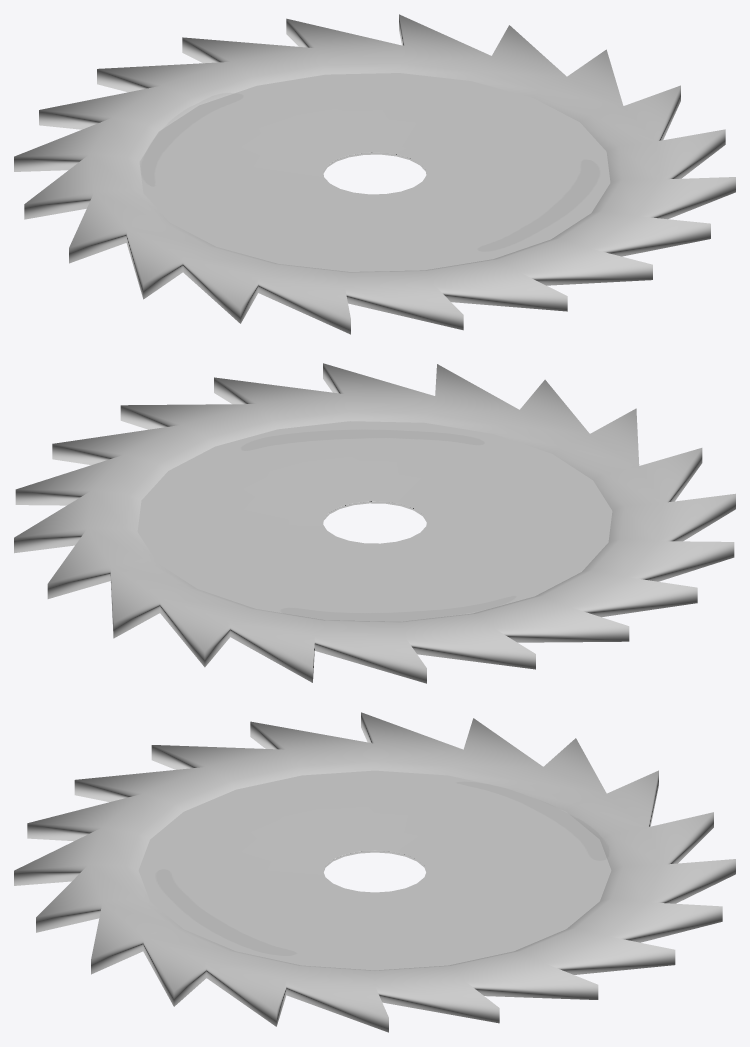
The model's file is Buzzsaw.fbx.
3 renders of one model, top to bottom at view 1: azimuth 30°, elevation 25°; view 2: azimuth 150°, elevation 25°; view 3: azimuth 270°, elevation 25°, orthographic.
Parts seen in each view (by area): view 1: Buzzsaw; view 2: Buzzsaw; view 3: Buzzsaw.
Boxes of the visible parts, x1,y1,x2,y2 form: Buzzsaw: [14, 14, 735, 334]; Buzzsaw: [14, 363, 735, 683]; Buzzsaw: [14, 712, 735, 1032].
Bounding box in the file's own units: 15.14 × 0.3558 × 15.14.
